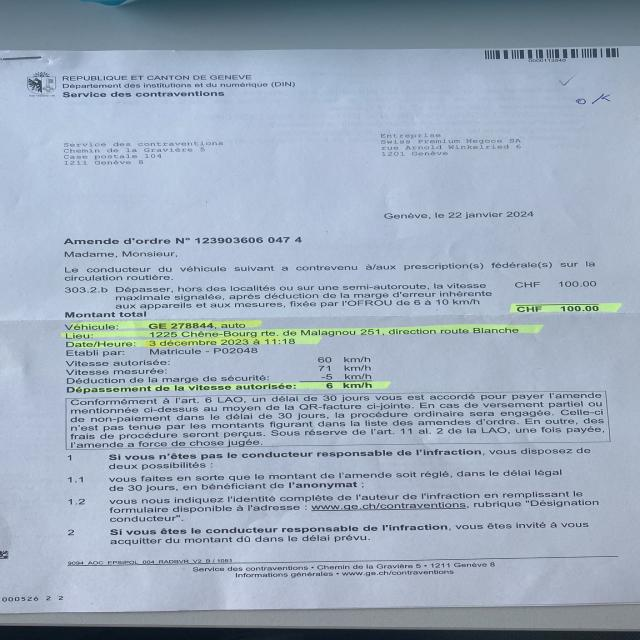paper-document-: (0, 46, 640, 614)
